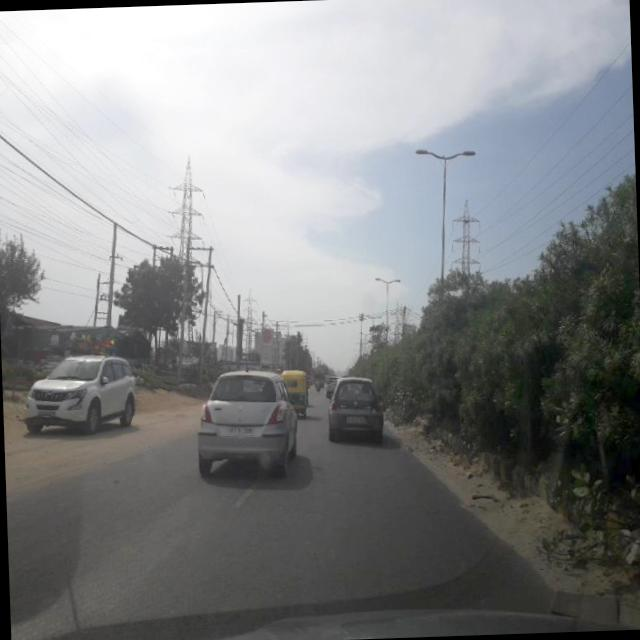crack: (6, 464, 487, 640)
